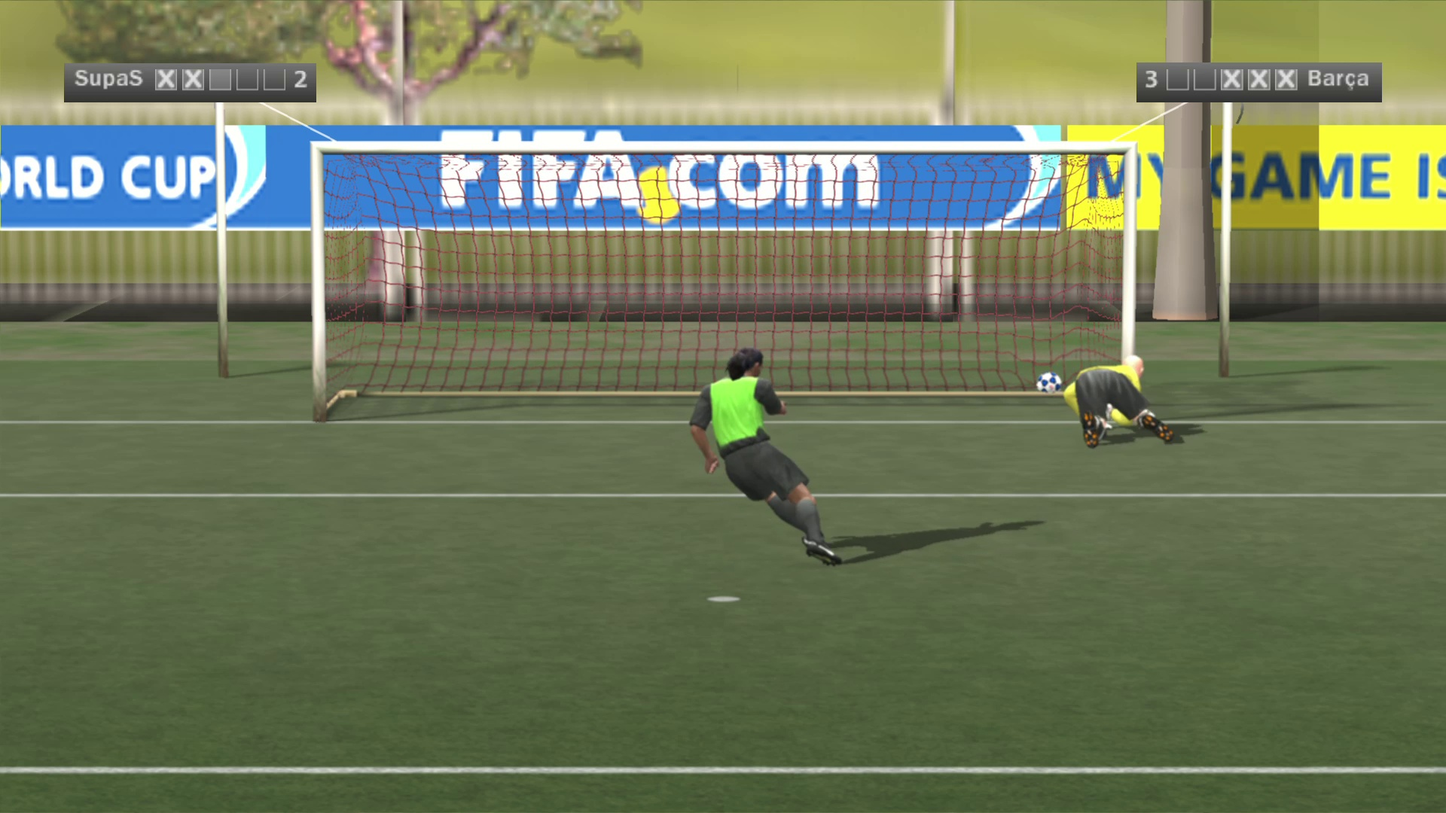ball: (1027, 363, 1050, 384)
goal_post: (0, 35, 721, 275)
keeper: (1017, 312, 1125, 395)
kicker: (614, 243, 767, 462)
